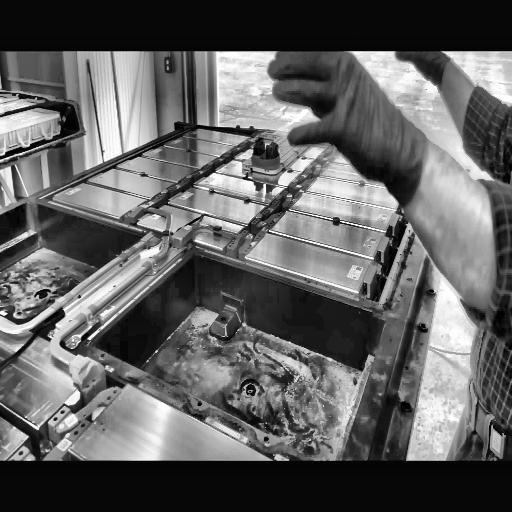busbar: (0, 218, 231, 341), (49, 207, 171, 399), (222, 145, 337, 265), (117, 131, 259, 224)
connector: (249, 134, 281, 175)
